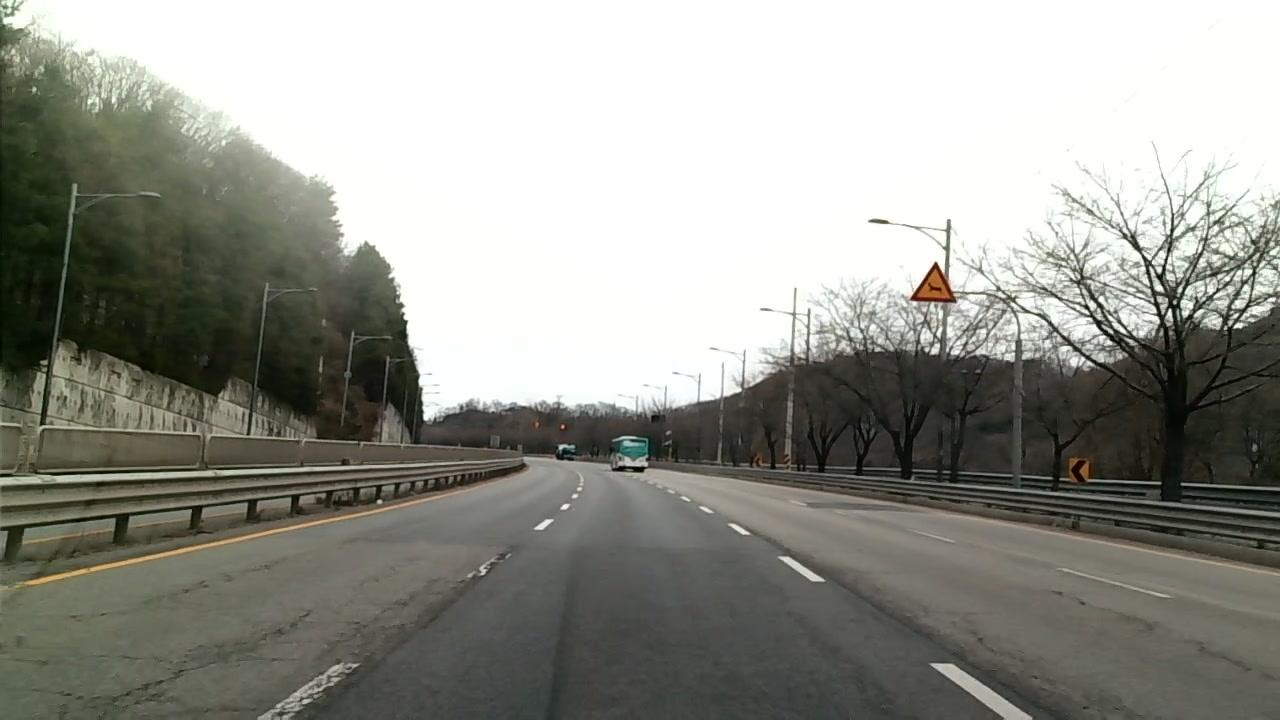erosion: (313, 575, 476, 685), (945, 627, 1132, 720), (147, 551, 287, 602)
hcrack: (36, 679, 252, 720)
vcrack: (1044, 582, 1278, 684), (107, 603, 319, 702)
